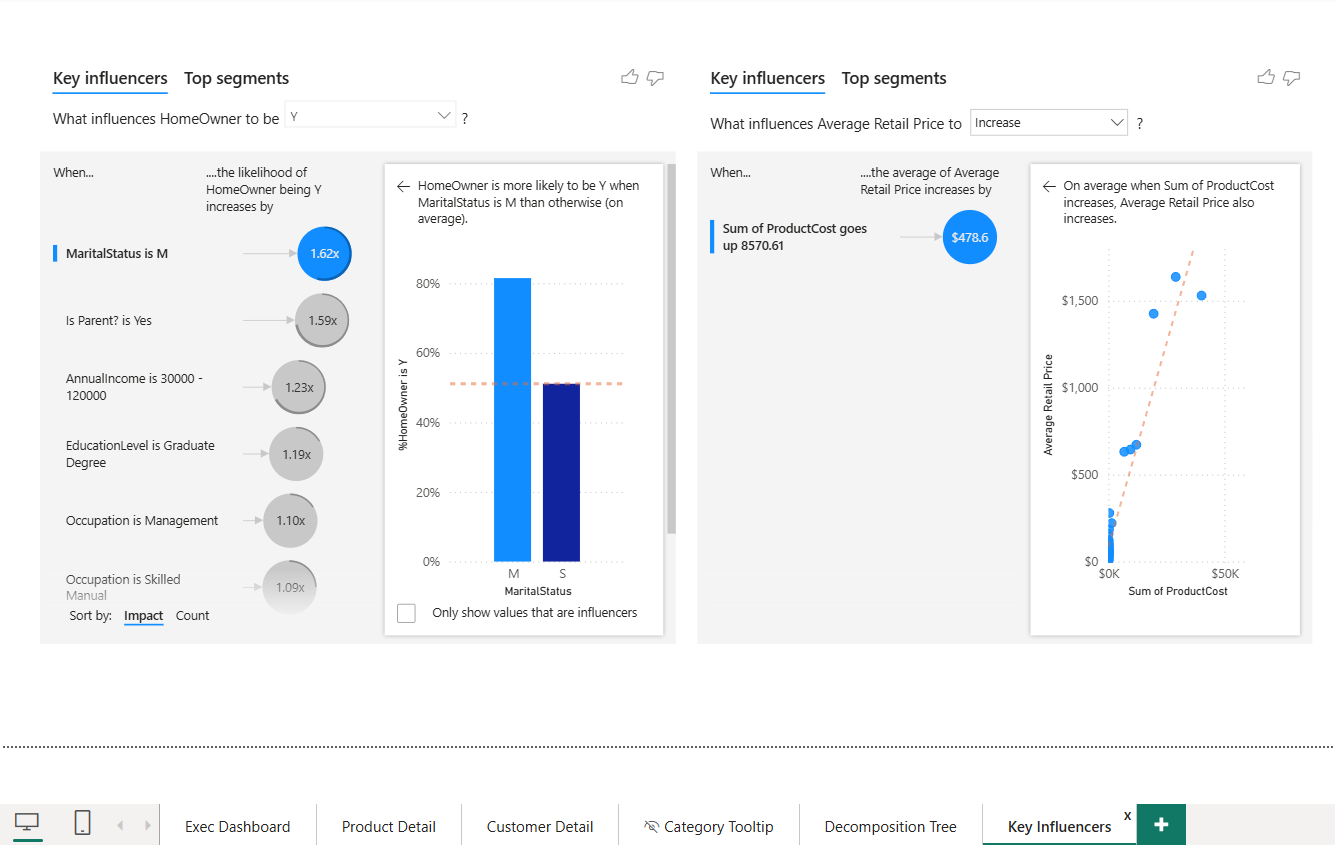

The dashboard page shown, as its layout file describes it:
{"tool":"powerbi","page":{"name":"Key Influencers","canvas":[1280,720],"ordinal":5},"visuals":[{"type":"keyDriversVisual","fields":{"ExplainBy":["Customer Lookup.AnnualIncome","Customer Lookup.EducationLevel","Customer Lookup.Is Parent?","Customer Lookup.MaritalStatus","Customer Lookup.Occupation"],"Target":["Customer Lookup.HomeOwner"]},"box":[33.9,54.3,619.4,571.9],"z":0},{"type":"keyDriversVisual","fields":{"Details":["Product Subcategories Lookup.SubcategoryName"],"ExplainBy":["Sum(Product Lookup.ProductCost)"],"Target":["Measure Table.Average Retail Price"]},"box":[663.5,54.3,599.1,571.9],"z":1000}]}

Visuals, with their boxes on the page's 1280x720 design canvas (x1, y1, x2, y2). These are canvas units, not pixel positions in the 1335x845 screenshot, which may show the page scaled, cropped or inside an application window:
keyDriversVisual - Customer Lookup.AnnualIncome x Customer Lookup.EducationLevel: locate(34, 54, 653, 626)
keyDriversVisual - Product Subcategories Lookup.SubcategoryName x Sum(Product Lookup.ProductCost): locate(664, 54, 1263, 626)
